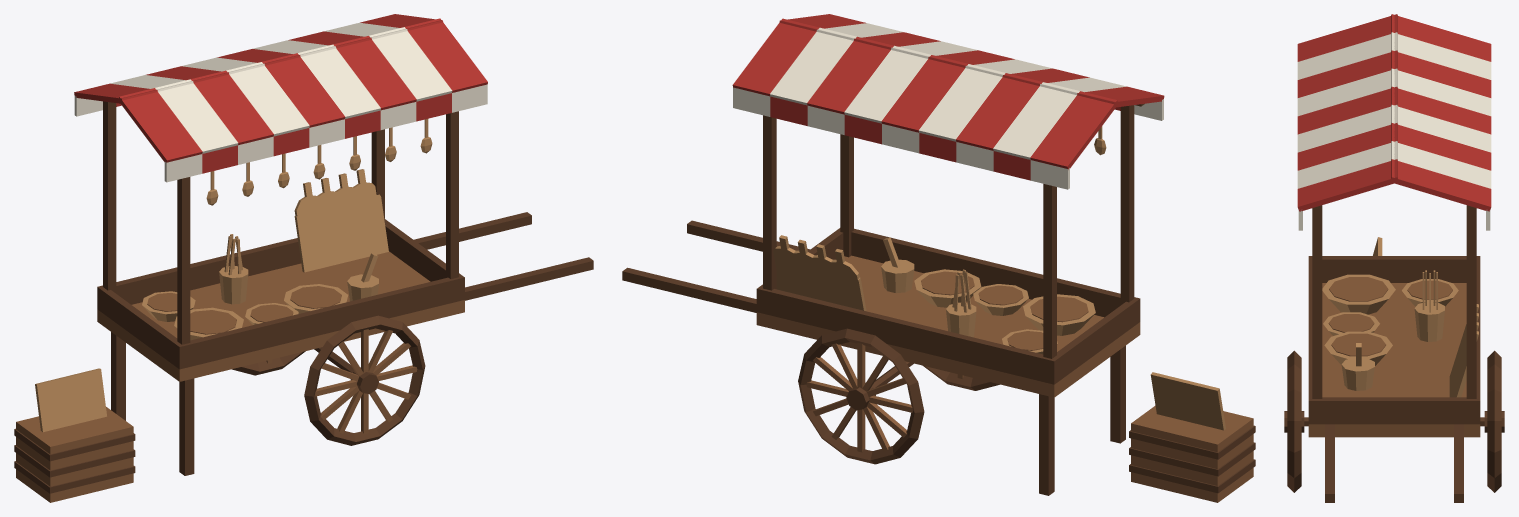
Rendered from SidiBouSaid_Vendor_OliveWoodCart.fbx.
The picture shows the model from 3 angles, left to right: view 1: azimuth 30°, elevation 25°; view 2: azimuth 150°, elevation 25°; view 3: azimuth 270°, elevation 25°; orthographic projection. The views are drawn at different scales.
Visible parts, largest first — view 1: SidiBouSaid_Vendor_OliveWoodCart.001; view 2: SidiBouSaid_Vendor_OliveWoodCart.001; view 3: SidiBouSaid_Vendor_OliveWoodCart.001.
Part boxes in pixels (x1=…): SidiBouSaid_Vendor_OliveWoodCart.001: x1=14, y1=14, x2=593, y2=502; SidiBouSaid_Vendor_OliveWoodCart.001: x1=622, y1=14, x2=1255, y2=502; SidiBouSaid_Vendor_OliveWoodCart.001: x1=1284, y1=14, x2=1504, y2=502.
Bounding box in the file's own units: 4.56 × 2.88 × 1.54.
